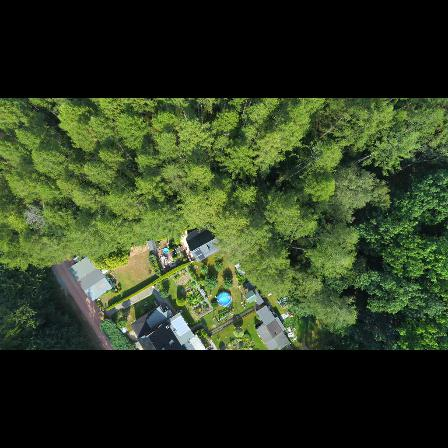Dead: (21, 204, 48, 230)
